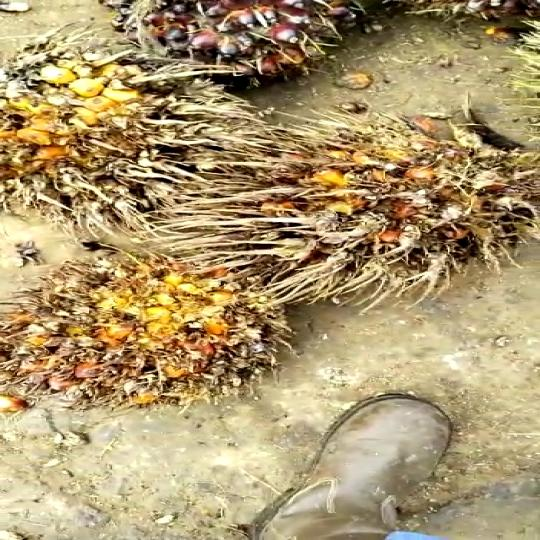terlalu masak: (161, 114, 540, 306), (0, 258, 313, 418)
